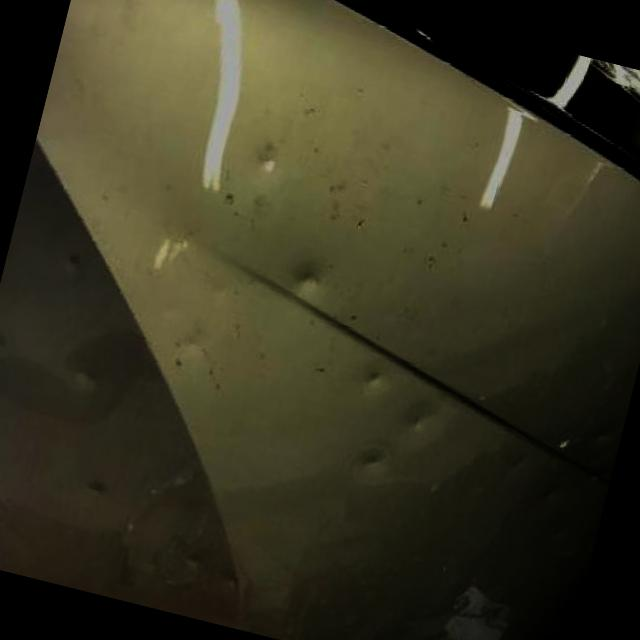dent: (400, 403, 436, 442), (354, 443, 388, 478), (294, 266, 326, 294), (68, 366, 99, 394), (254, 150, 282, 177), (360, 364, 387, 391), (180, 333, 206, 358), (60, 247, 84, 274), (507, 448, 529, 474), (592, 428, 616, 449), (538, 484, 560, 504), (551, 524, 565, 541)
